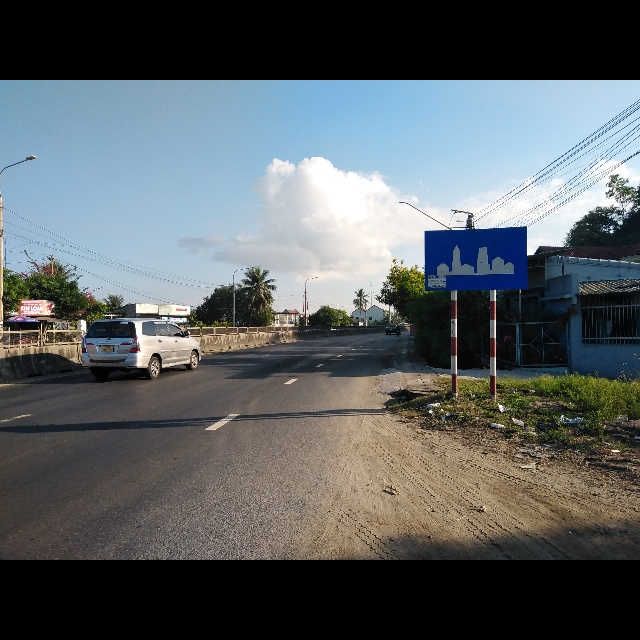Khu đông dân cư: (423, 228, 527, 290)
